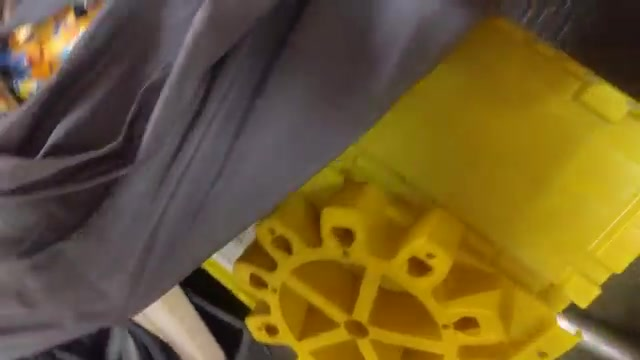gear: (208, 185, 520, 360)
